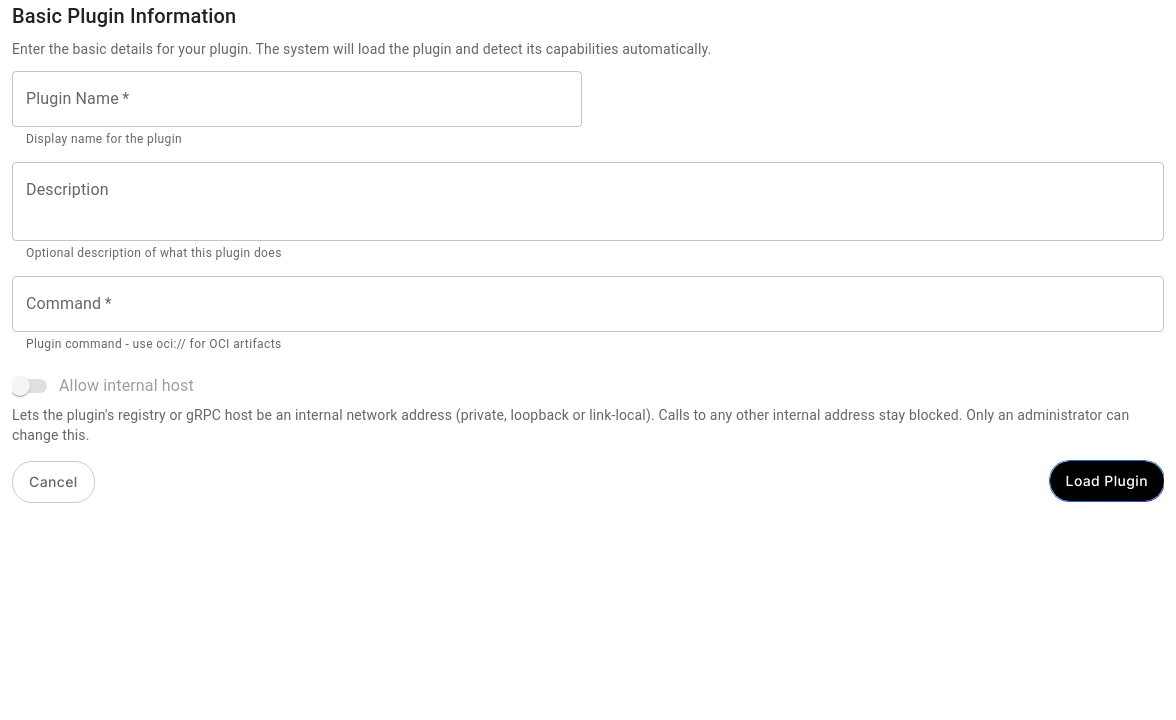
Test: Step1BasicInfo plugin sources › rejects a file path with the backend's wording
Type "demo" into the field labelled "Plugin Name *". click: (297, 99)
box: [12, 71, 582, 127]
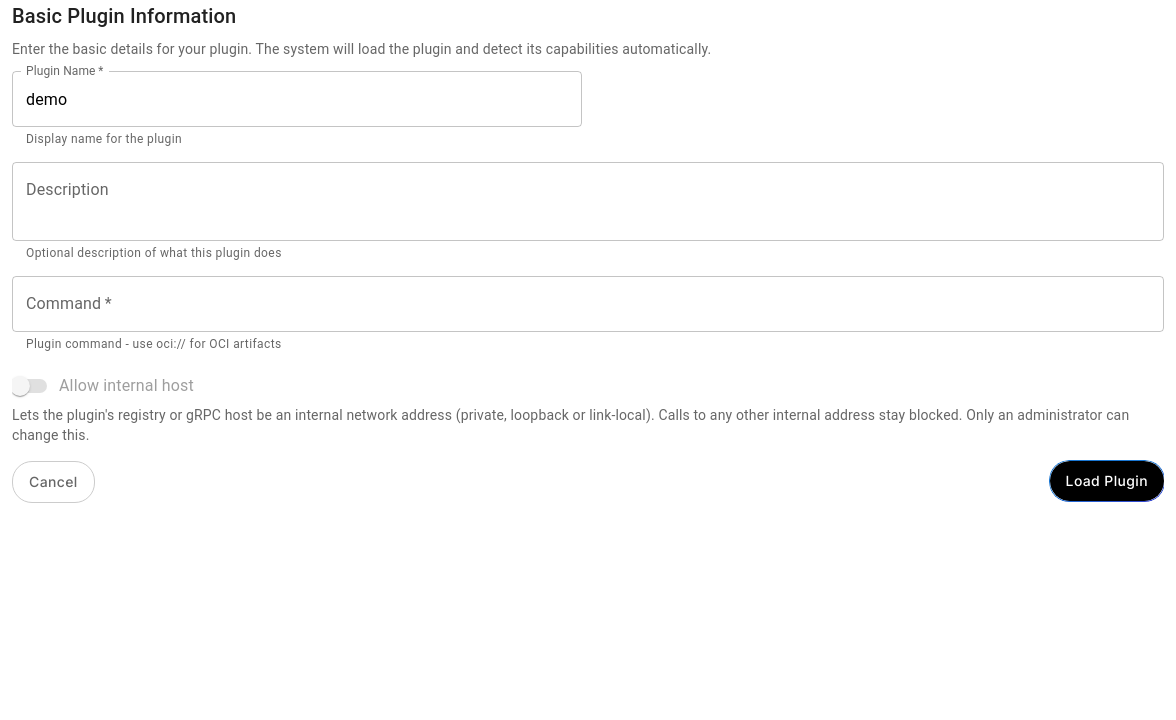
Type "/usr/local/bin/demo" into the field labelled "Command *". click: (588, 304)
box: [12, 276, 1164, 332]
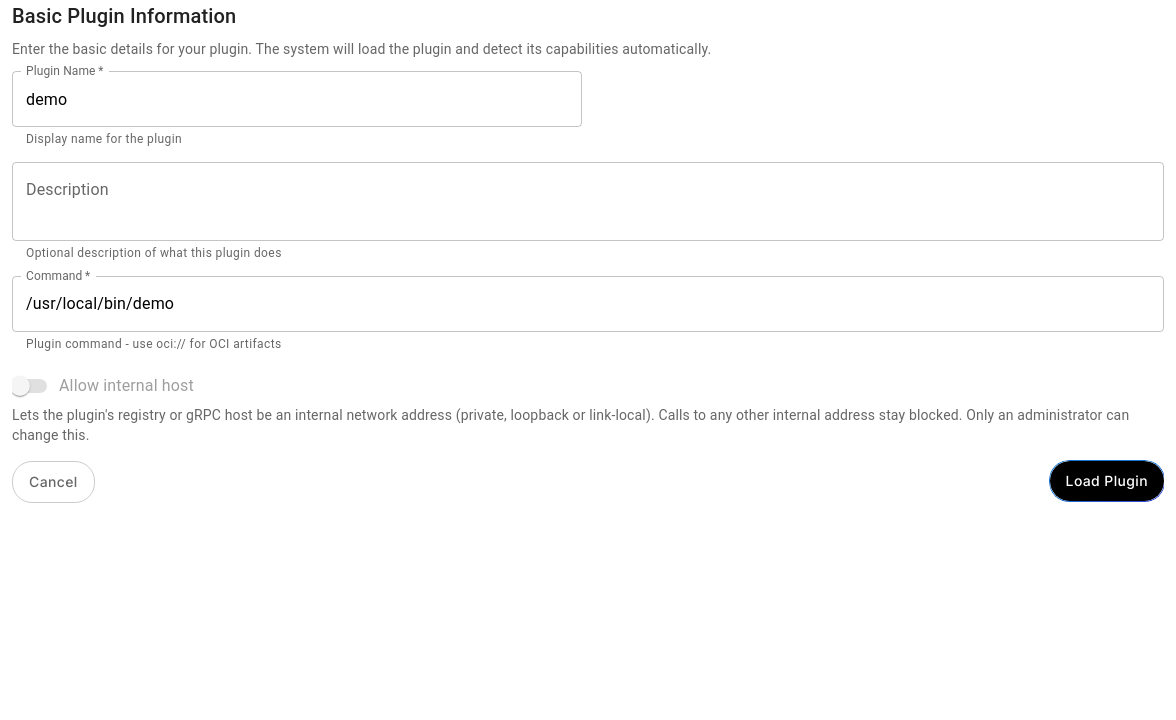
Click the button "Load Plugin". click: click(1107, 481)
box: [1050, 461, 1164, 501]
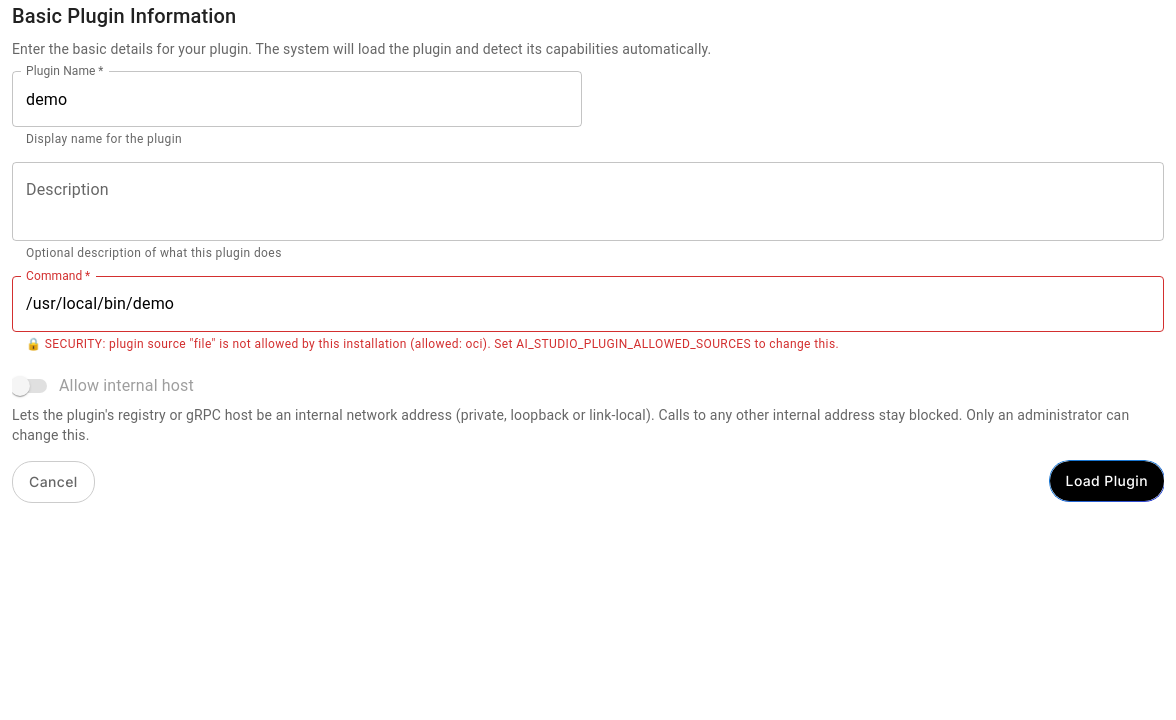
expect the text "🔒 SECURITY: plugin source \"file\" is not allowed by this installation (allowed: oci). Set AI_STUDIO_PLUGIN_ALLOWED_SOURCE" is shown: met, box [26, 337, 839, 351]
